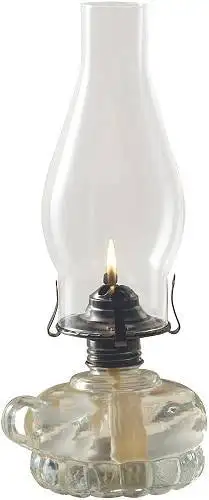Open-Flame-Hazard: (2, 1, 208, 499)
